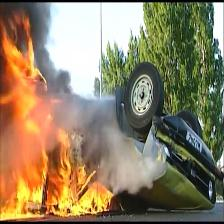fire: (0, 8, 117, 219)
smoke: (34, 1, 84, 95)
